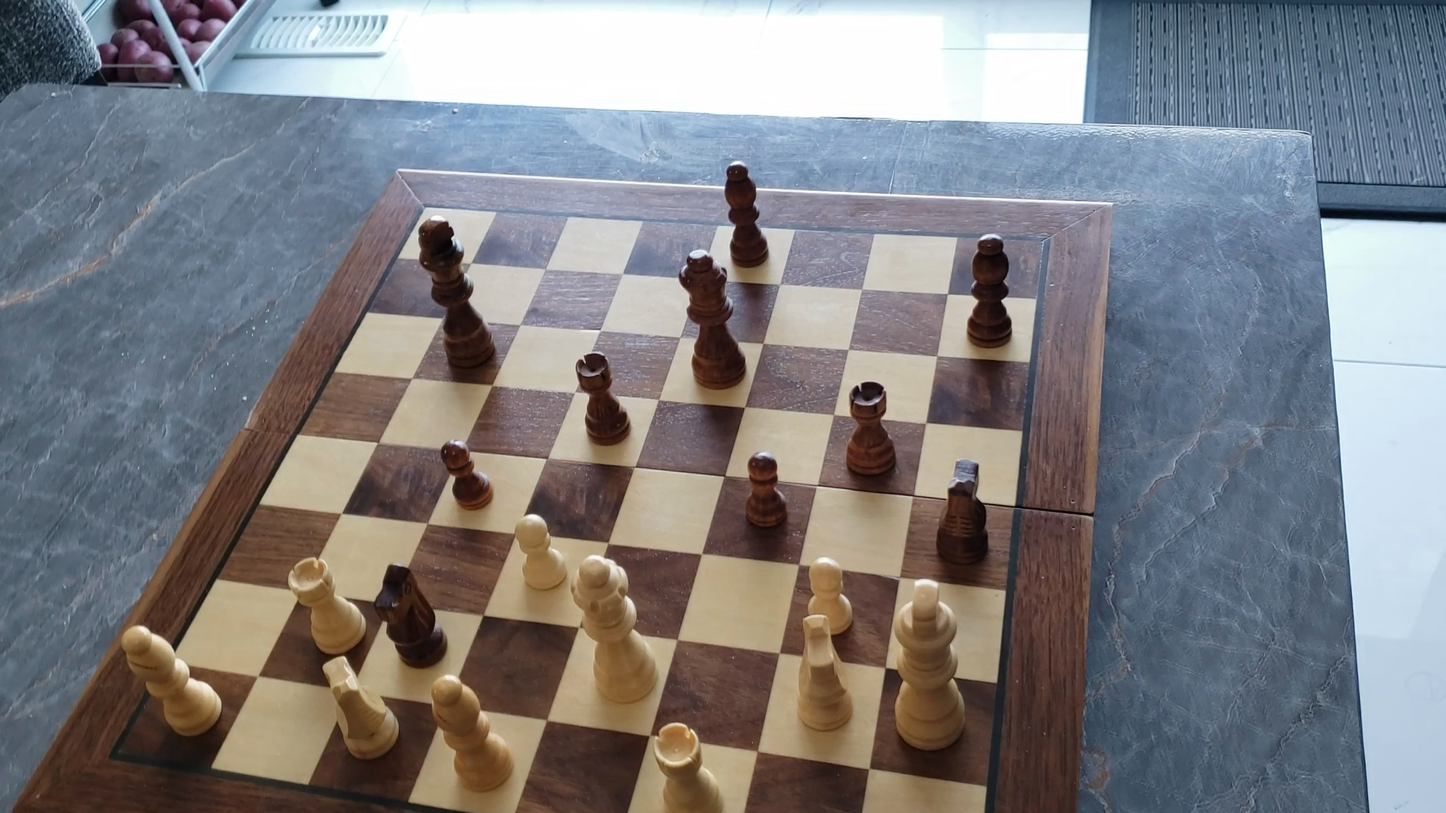black-bishop: (711, 153, 787, 270), (965, 229, 1014, 347)
black-king: (389, 212, 507, 384)
black-knight: (373, 561, 450, 669), (933, 456, 990, 566)
black-pawn: (436, 435, 495, 512), (741, 448, 789, 531)
black-queen: (675, 244, 748, 390)
black-rook: (573, 350, 633, 447), (843, 378, 896, 479)
white-bishop: (115, 622, 226, 741), (425, 672, 519, 794)
white-king: (882, 568, 977, 767)
white-knight: (317, 654, 404, 764), (785, 612, 857, 740)
white-pawn: (796, 552, 859, 633), (511, 510, 570, 595)
white-queen: (565, 553, 663, 709)
white-rook: (283, 553, 369, 662), (644, 718, 730, 812)
